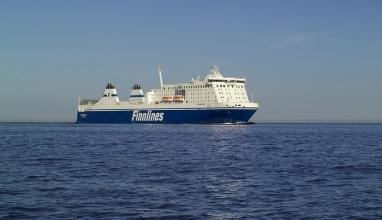youlun: (75, 64, 261, 126)
